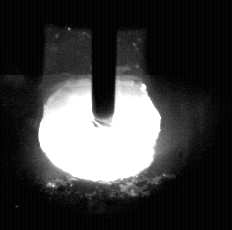arame: (93, 0, 116, 127)
poca: (38, 0, 160, 230)
